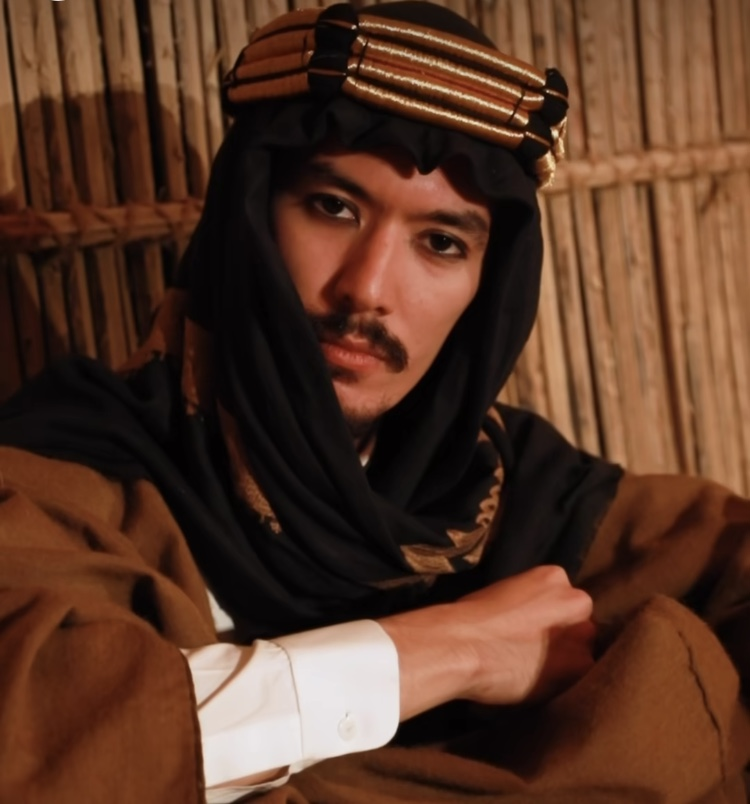Saudi_Founding_Day: (1, 4, 750, 804)
